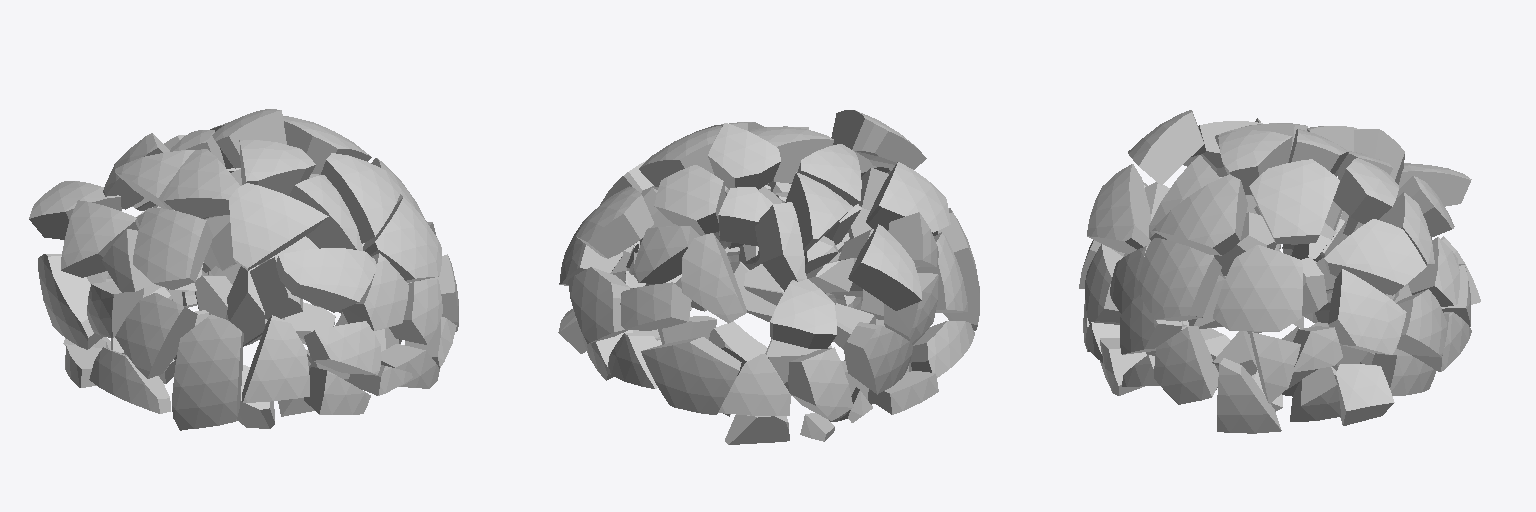
The model's file is shatter.obj.
3 views of the same model, side by side, from view 1: azimuth 30°, elevation 25°; view 2: azimuth 150°, elevation 25°; view 3: azimuth 270°, elevation 25° (orthographic).
Bounding box in the file's own units: 57.25 × 41.1 × 57.08.